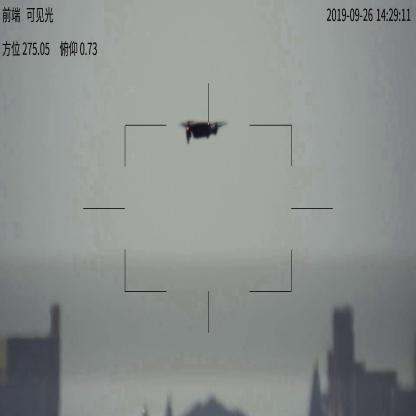uav: (175, 118, 223, 142)
